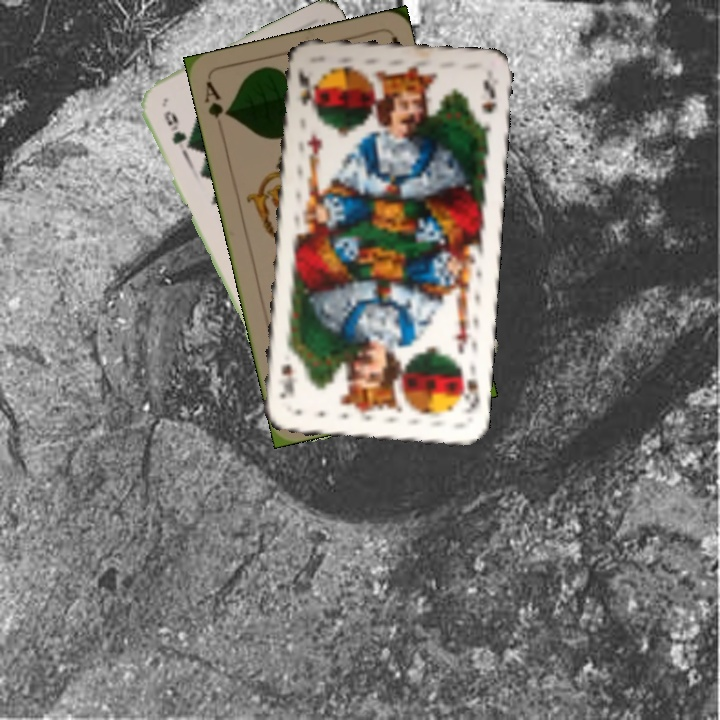G9: (159, 106, 188, 147)
GA: (200, 77, 233, 121)
SK: (455, 363, 482, 415), (293, 64, 317, 112)
